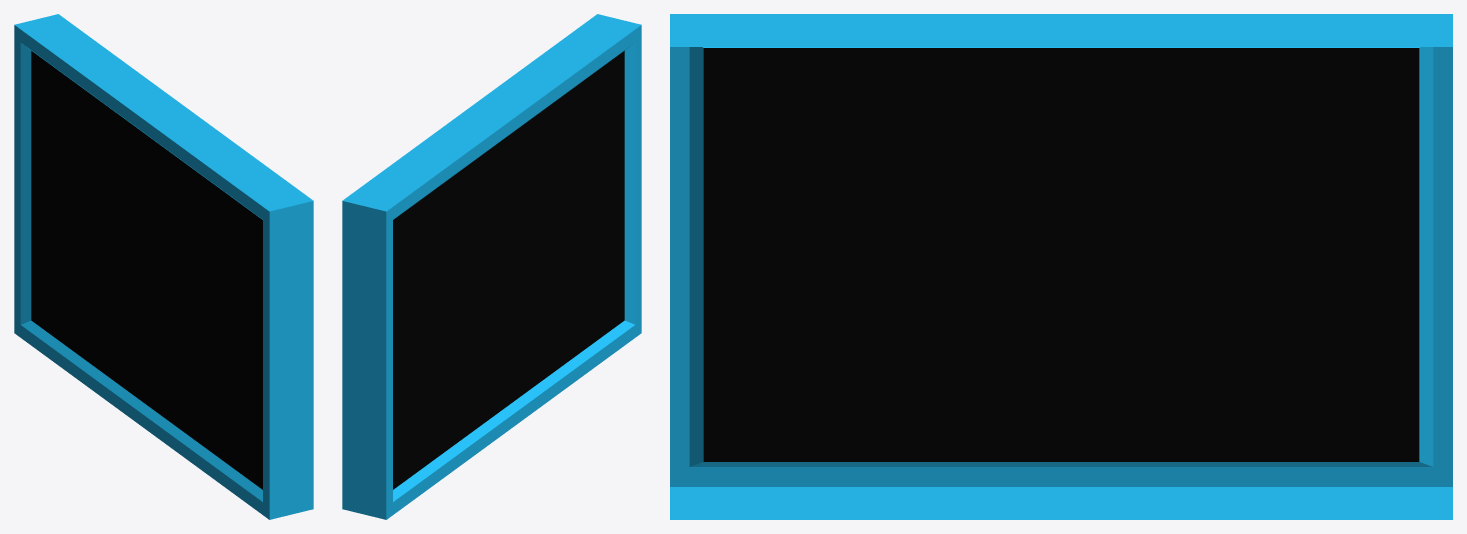
File: screen.fbx
3 renders of one model, left to right at view 1: azimuth 30°, elevation 25°; view 2: azimuth 150°, elevation 25°; view 3: azimuth 270°, elevation 25°, orthographic. The views are drawn at different scales.
Parts seen in each view (by area): view 1: screen; view 2: screen; view 3: screen.
Boxes of the visible parts, x1,y1,x2,y2 form: screen: (14,14,313,519); screen: (342,14,641,519); screen: (670,14,1452,519).
Bounding box in the file's own units: 15 × 100 × 150.
